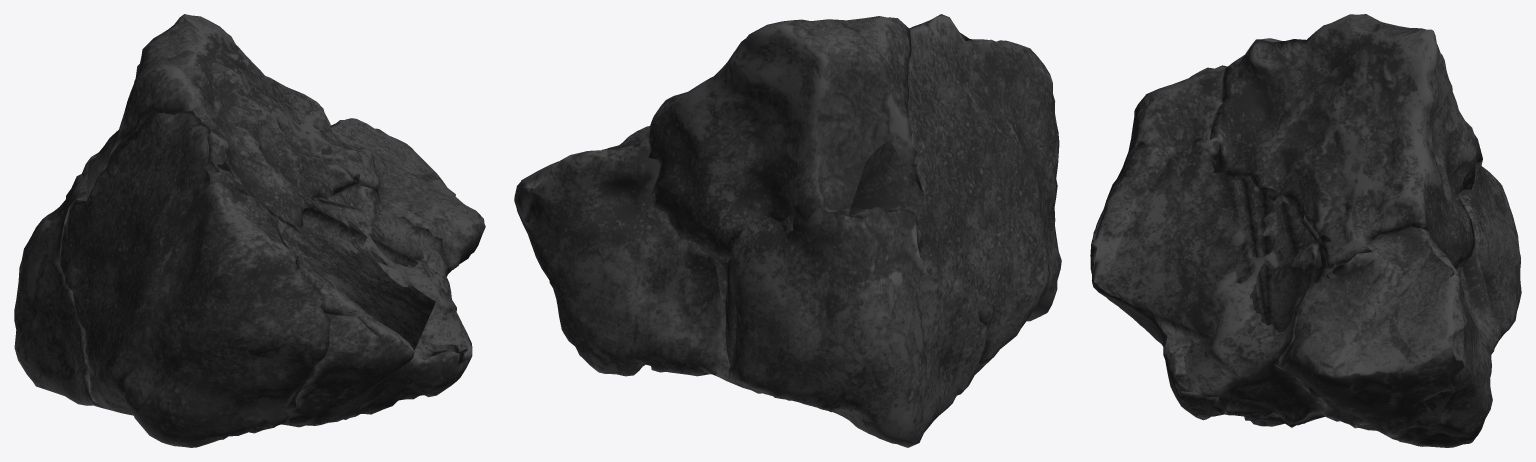
The model's file is hero-high.glb.
3 renders of one model, left to right at view 1: azimuth 30°, elevation 25°; view 2: azimuth 150°, elevation 25°; view 3: azimuth 270°, elevation 25°, orthographic. The views are drawn at different scales.
Parts seen in each view (by area): view 1: Mineral_03_Sandstone_Photoscan_D_LOD1; view 2: Mineral_03_Sandstone_Photoscan_D_LOD1; view 3: Mineral_03_Sandstone_Photoscan_D_LOD1.
Boxes of the visible parts, left/top/right/bottom form: Mineral_03_Sandstone_Photoscan_D_LOD1: left=14, top=14, right=485, bottom=447; Mineral_03_Sandstone_Photoscan_D_LOD1: left=514, top=14, right=1061, bottom=447; Mineral_03_Sandstone_Photoscan_D_LOD1: left=1090, top=14, right=1521, bottom=447.
Size of the model in its own units: 2 by 1.66 by 1.85.
Materials: 1 (1 with a texture image).
